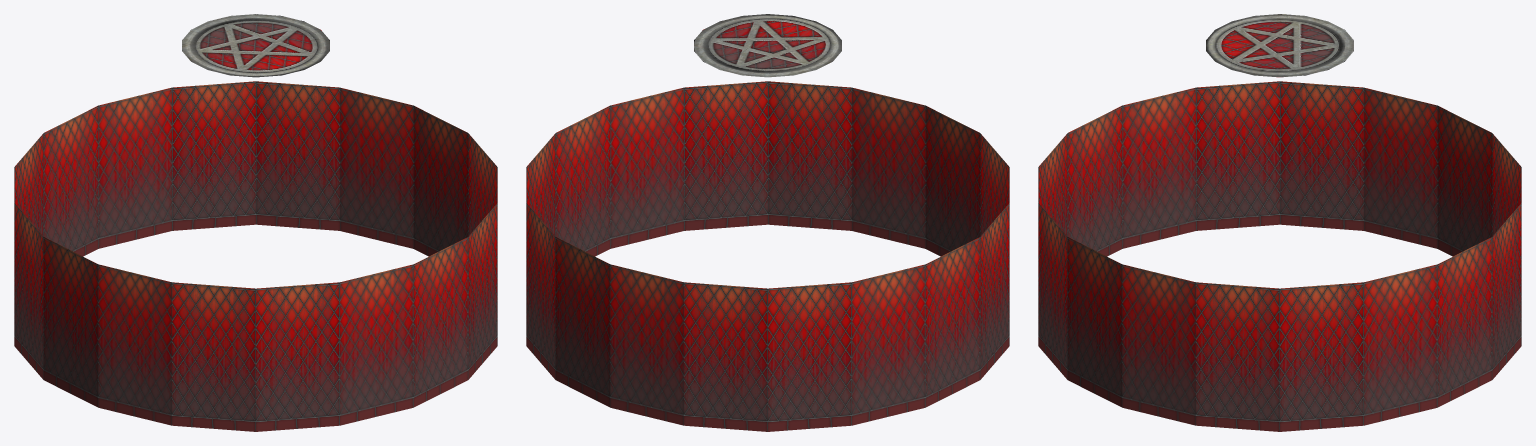
The model's file is Atlas_MDL.fbx.
3 views of the same model, side by side, from view 1: azimuth 30°, elevation 25°; view 2: azimuth 150°, elevation 25°; view 3: azimuth 270°, elevation 25° (orthographic).
Parts seen in each view (by area): view 1: TunnelBigDoorway.010; view 2: TunnelBigDoorway.010; view 3: TunnelBigDoorway.010.
Part boxes in pixels (x1,y1,x2,y2): TunnelBigDoorway.010: [14, 14, 497, 431]; TunnelBigDoorway.010: [526, 14, 1009, 431]; TunnelBigDoorway.010: [1038, 14, 1521, 431].
Bounding box in the file's own units: 1741 × 1107 × 1714.
